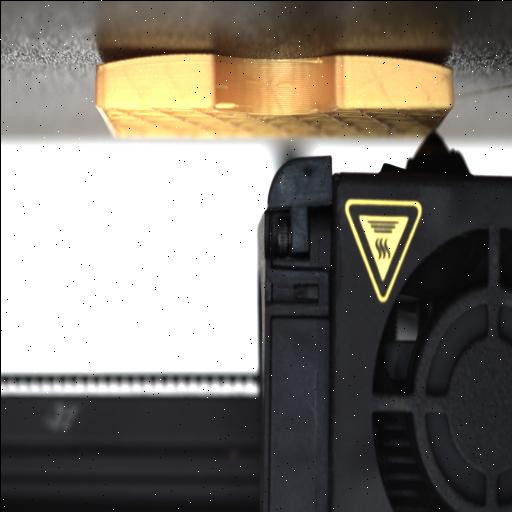warp: (322, 52, 454, 76), (95, 52, 225, 76)
